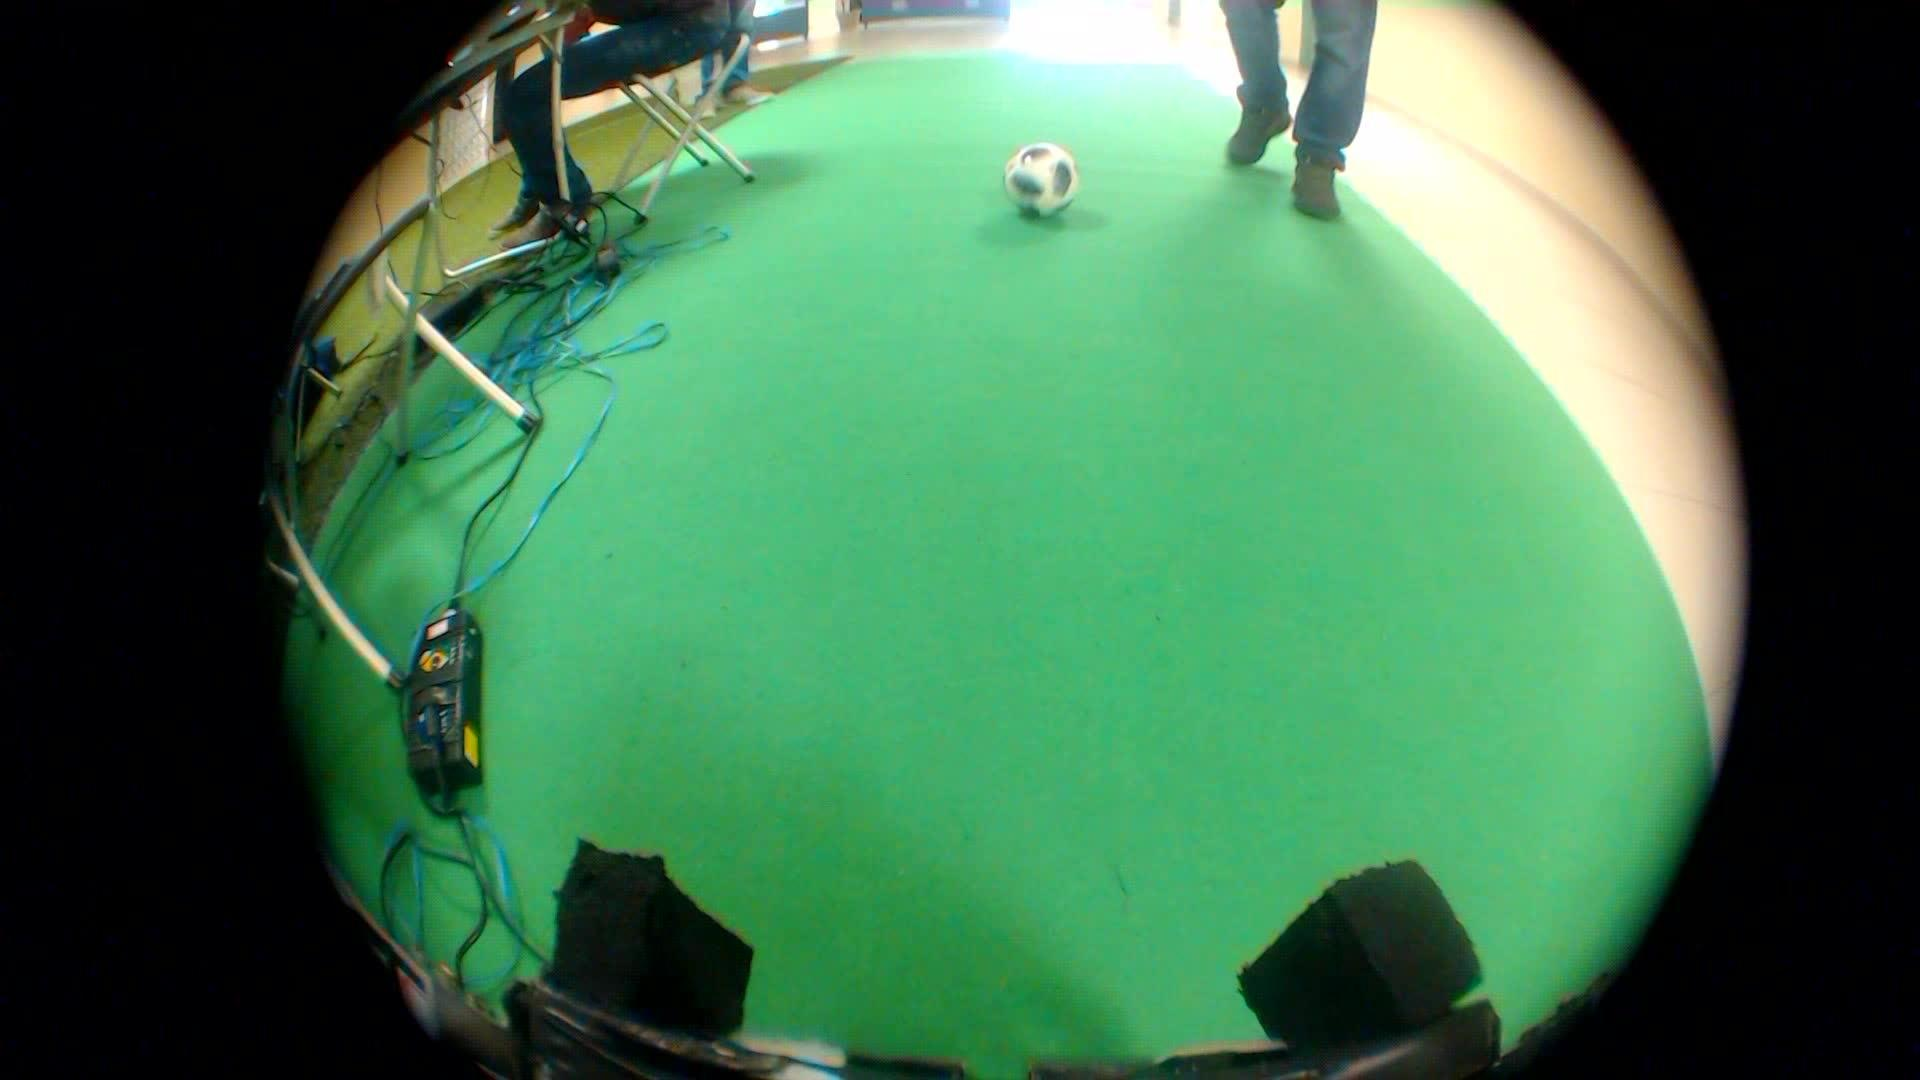ball: (989, 129, 1081, 224)
